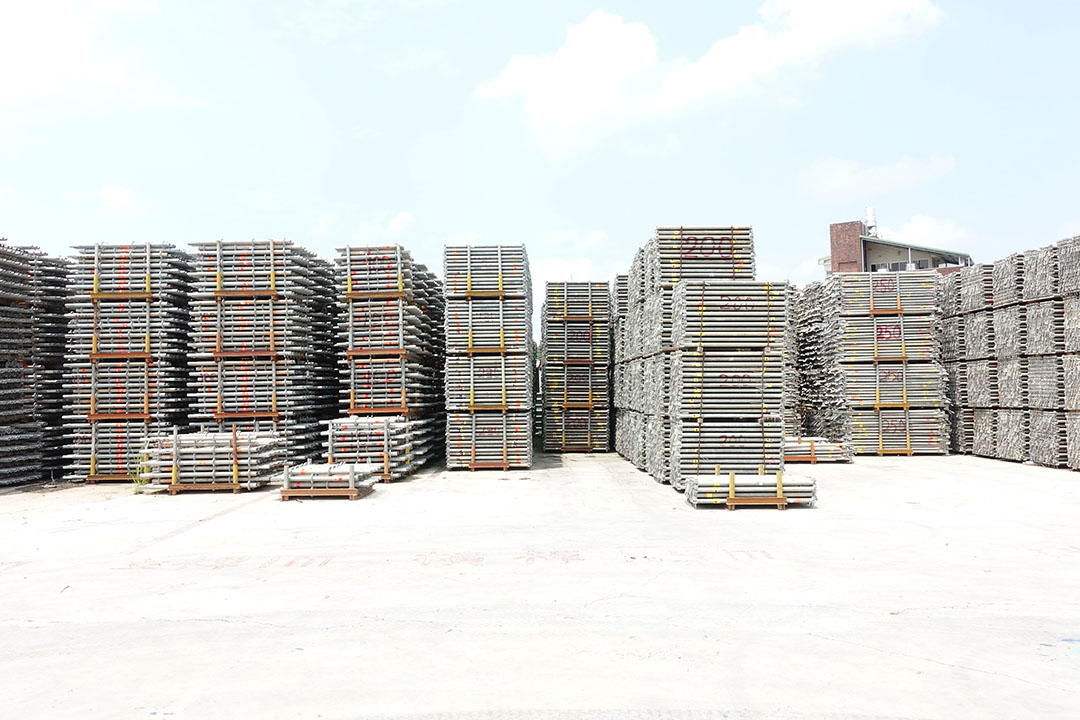building materials: (677, 351, 786, 422), (682, 279, 789, 351), (678, 421, 786, 492), (64, 240, 177, 302), (187, 237, 296, 299), (61, 303, 175, 362), (61, 422, 168, 484), (58, 364, 169, 422), (189, 301, 298, 360), (655, 225, 757, 287), (187, 362, 292, 422), (318, 418, 402, 483), (442, 413, 533, 472), (441, 243, 527, 300), (836, 270, 941, 316), (836, 318, 941, 364), (334, 358, 415, 417), (443, 299, 525, 357), (841, 365, 946, 410), (845, 412, 950, 457), (443, 358, 528, 413), (332, 301, 412, 358), (333, 243, 409, 301), (543, 410, 611, 454), (544, 280, 609, 324), (544, 323, 609, 366), (543, 368, 608, 411)
